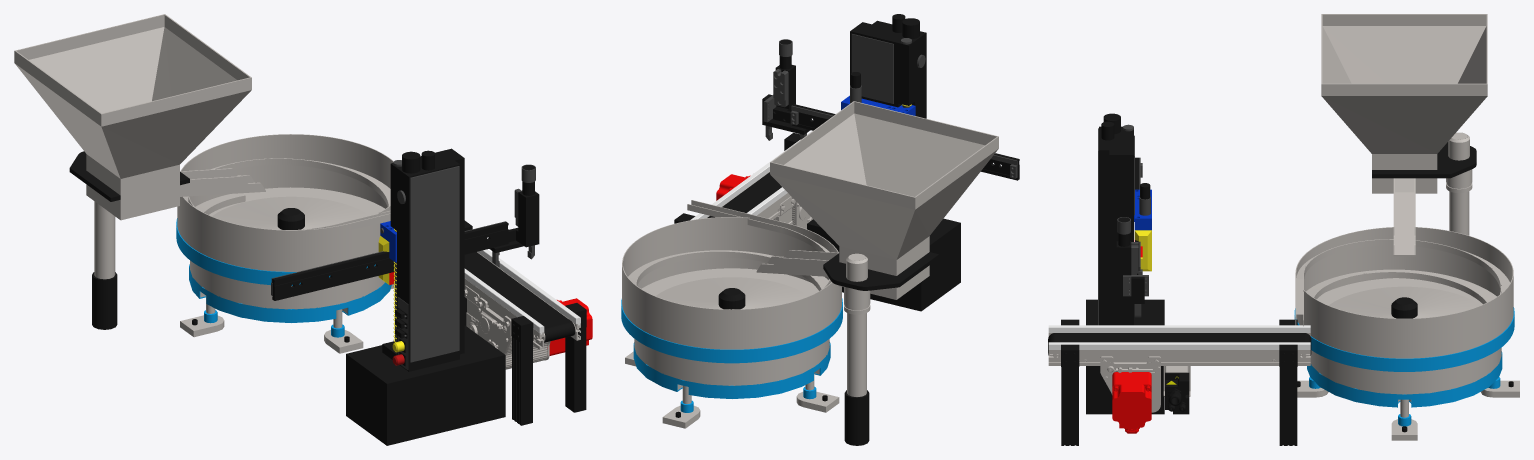
File: Wing_Conveyor_1_Station.glb
3 views of the same model, side by side, from view 1: azimuth 30°, elevation 25°; view 2: azimuth 150°, elevation 25°; view 3: azimuth 270°, elevation 25° (orthographic). The views are drawn at different scales.
Visible parts, largest first — view 1: color-47[17], color-47[25], color, color[26].001, color[25].001, color-5[3], color-47[24], color-44[7], color-47[4], color-47[26], color-43[2], color-43[1] (+12 smaller); view 2: color-47[17], color-47[25], color-47[24], color, color-47[23], color[25].001, color-47[26], color-47[4], color[24].001, color-47[18], color-47[21], color-47[22] (+10 smaller); view 3: color-47[17], color-47[25], color[25].001, color-47[24], color-47[26], color-47[23], color-44[1], color-44[7], color-47[4], color, color-44[6], color-44[5] (+14 smaller).
Boxes of the visible parts, x1,y1,x2,y2 form: color-47[17]: [14, 14, 265, 220]; color-47[25]: [177, 134, 393, 271]; color: [346, 325, 505, 445]; color[26].001: [410, 166, 459, 362]; color[25].001: [390, 148, 464, 363]; color-5[3]: [272, 221, 508, 300]; color-47[24]: [190, 260, 384, 313]; color-44[7]: [464, 252, 575, 342]; color-47[4]: [189, 264, 391, 322]; color-47[26]: [183, 158, 390, 229]; color-43[2]: [511, 316, 533, 425]; color-43[1]: [565, 303, 586, 412]; color-47[17]: [756, 101, 998, 299]; color-47[25]: [622, 217, 841, 349]; color-47[24]: [634, 339, 829, 389]; color: [807, 218, 960, 311]; color-47[23]: [621, 298, 842, 363]; color[25].001: [850, 20, 926, 118]; color-47[26]: [628, 200, 831, 290]; color-47[4]: [633, 342, 830, 398]; color[24].001: [851, 34, 893, 103]; color-47[18]: [823, 252, 938, 290]; color-47[21]: [847, 313, 866, 396]; color-47[22]: [844, 390, 869, 445]; color-47[17]: [1321, 14, 1487, 256]; color-47[25]: [1295, 227, 1513, 358]; color[25].001: [1099, 126, 1133, 325]; color-47[24]: [1310, 347, 1501, 402]; color-47[26]: [1295, 239, 1509, 326]; color-47[23]: [1294, 307, 1514, 371]; color-44[1]: [1079, 350, 1279, 365]; color-44[7]: [1048, 333, 1311, 355]; color-47[4]: [1307, 351, 1502, 407]; color: [1086, 299, 1164, 414]; color-44[6]: [1112, 372, 1151, 433]; color-44[5]: [1048, 325, 1310, 332].
Size of the model in its own units: 0.9679 by 0.68 by 1.08.
